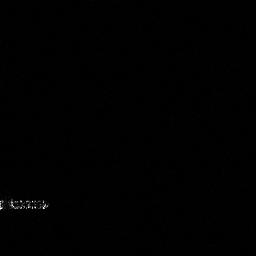ship: (1, 198, 49, 212)
